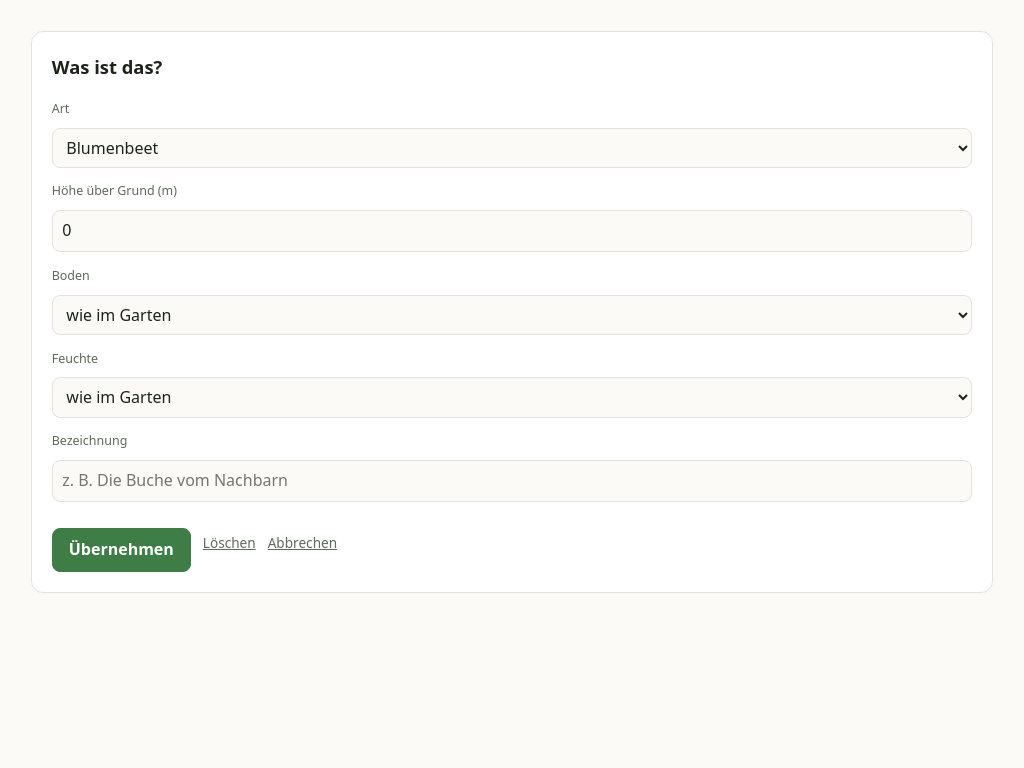
Test case: ElementForm — deleting › says what a planted bed costs before it goes
Click the button "Löschen" at (229, 543), box top-left (203, 532), bottom-right (256, 554)
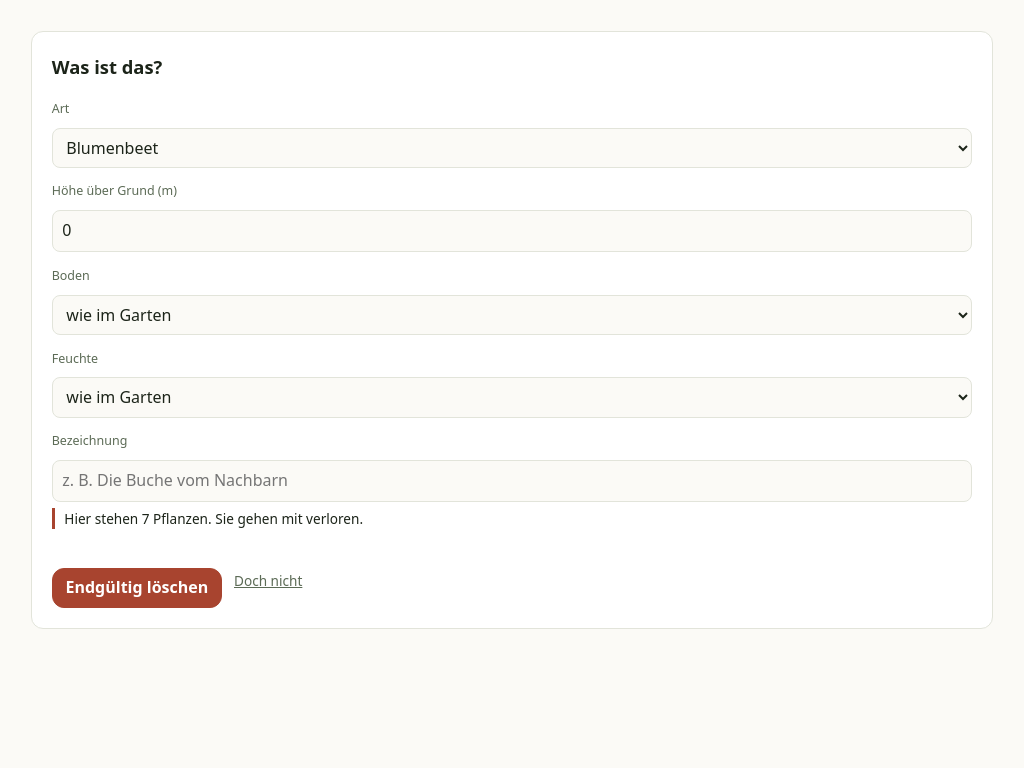
Check: the message shows "7 Pflanzen", box top-left (95, 508), bottom-right (208, 528)
